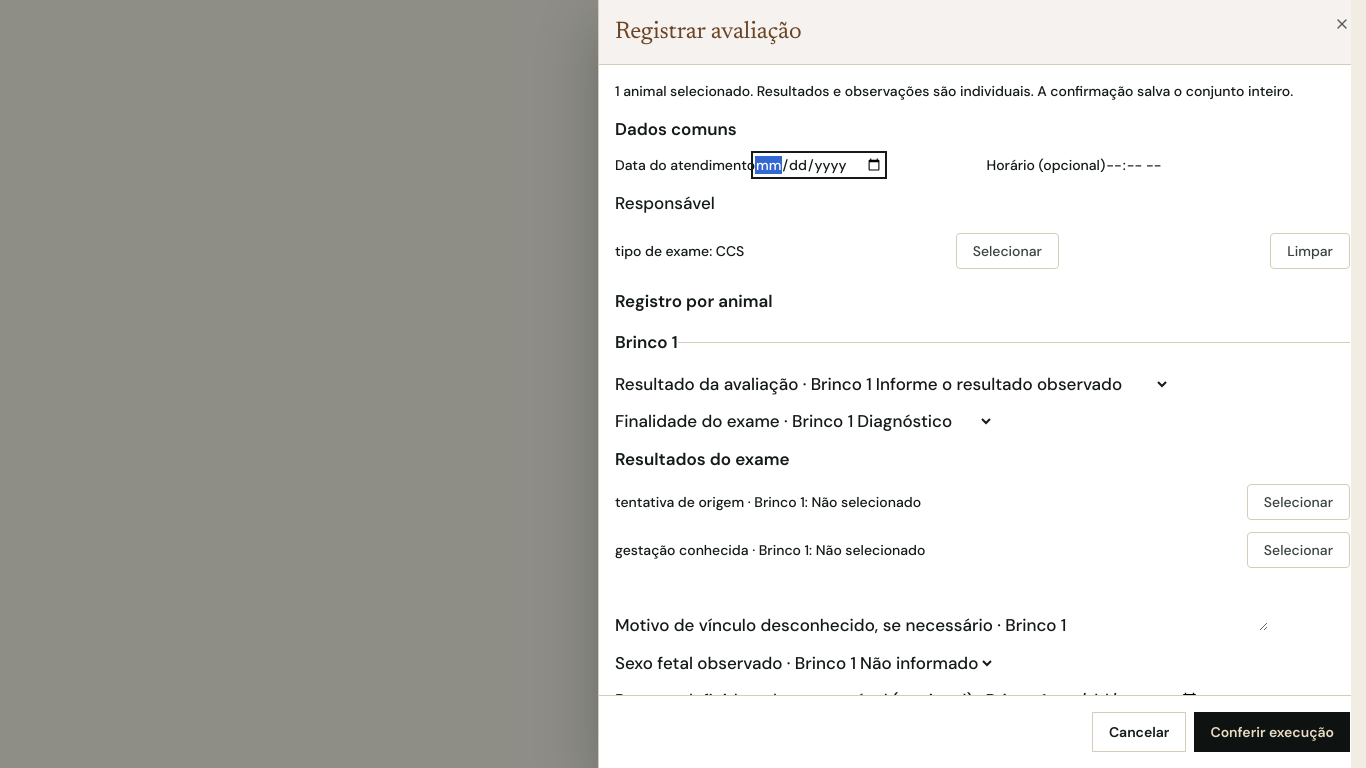
avaliação não preseleciona positivo e exige resultado de cada animal
Expected: the text "tipo de exame: CCS" is shown, [615,241,744,261]
Expected: the dropdown labelled "Resultado da avaliação · Brinco 1" shows "Informe o resultado observado", [872,372,1170,396]
In the date field labelled "Data do atendimento": (819, 164) [755,154,883,174], type "2026-10-21"
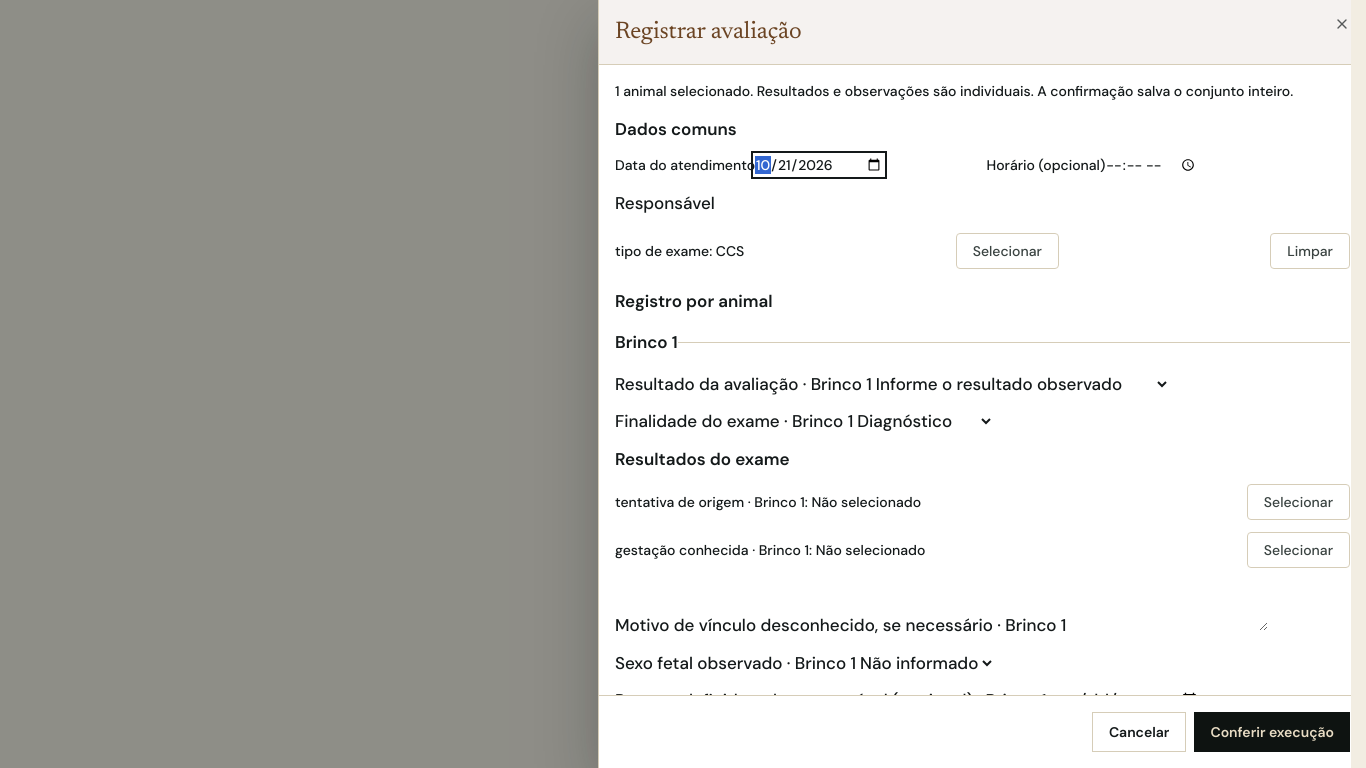
Click the button "Conferir execução": (1272, 732) [1194,712,1350,752]
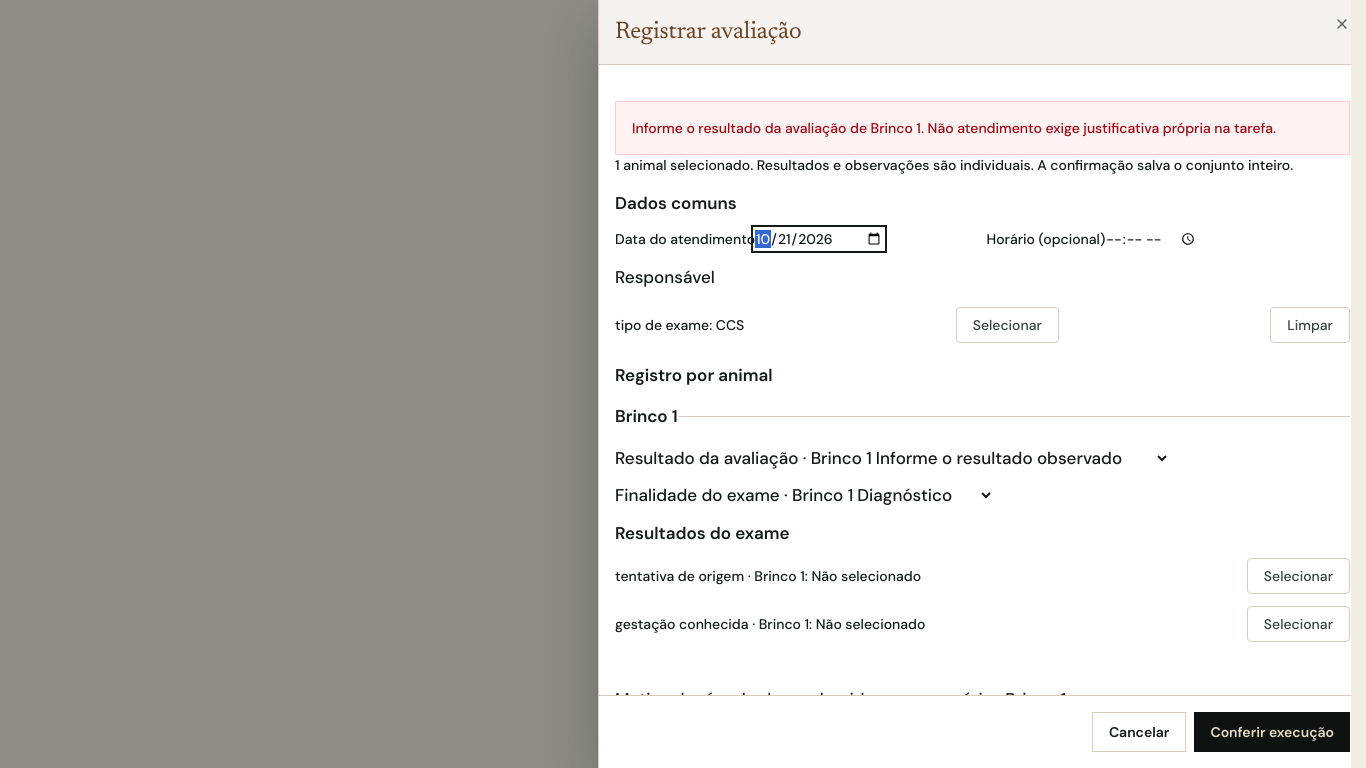
Expected: the text "Informe o resultado da avaliação de Brinco 1" is shown, [632,119,1276,137]
Select "Inconclusivo" in the dropdown labelled "Resultado da avaliação · Brinco 1": (1021, 458) [872,446,1170,470]
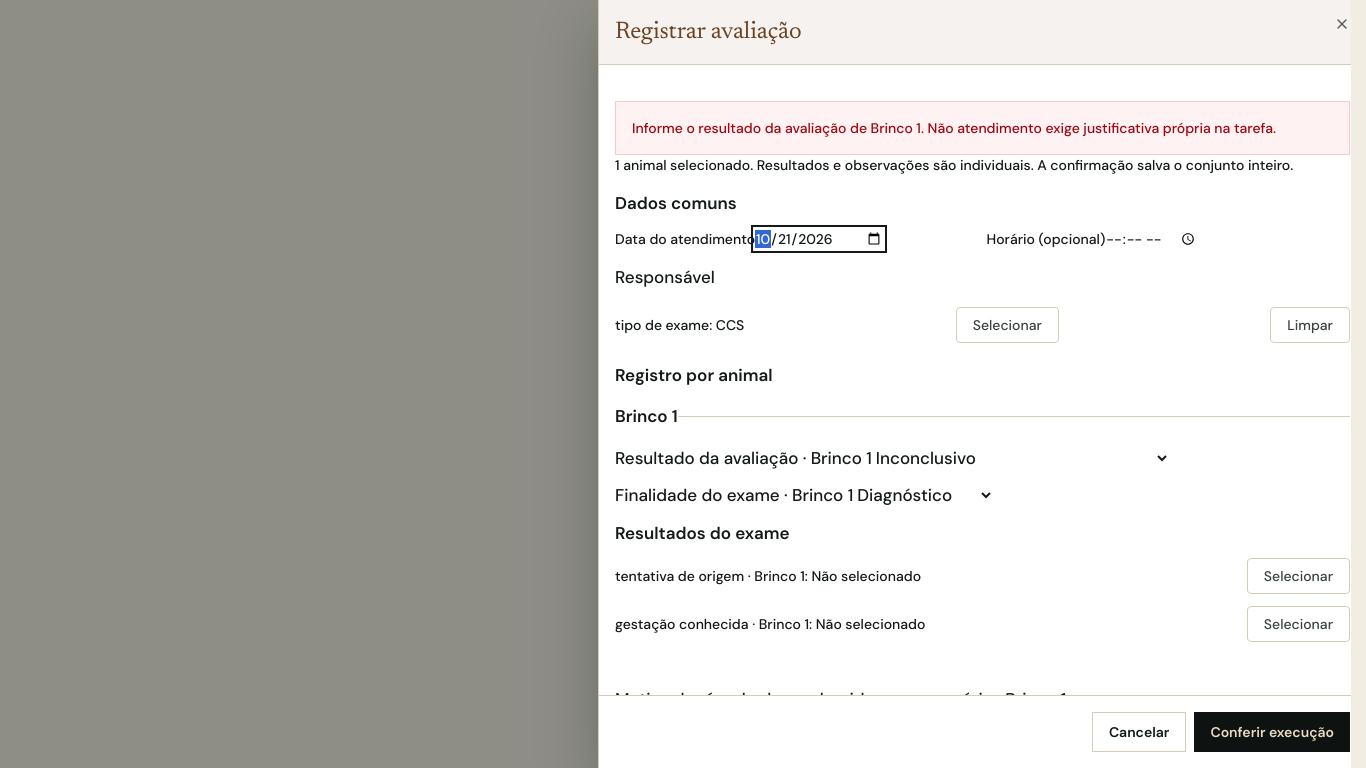
Click the button "Conferir execução": (1272, 732) [1194,712,1350,752]
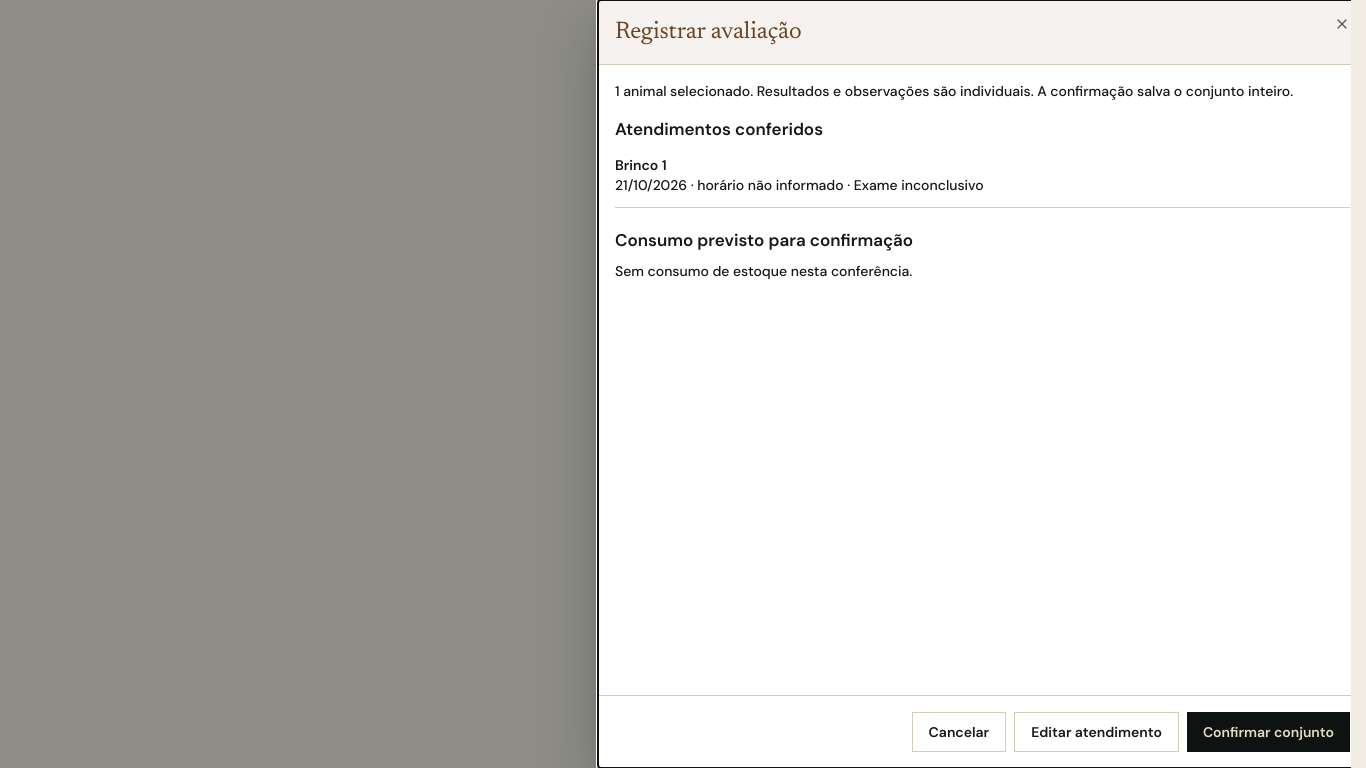
Expected: the button "Confirmar conjunto" is shown, [1187,712,1350,752]
